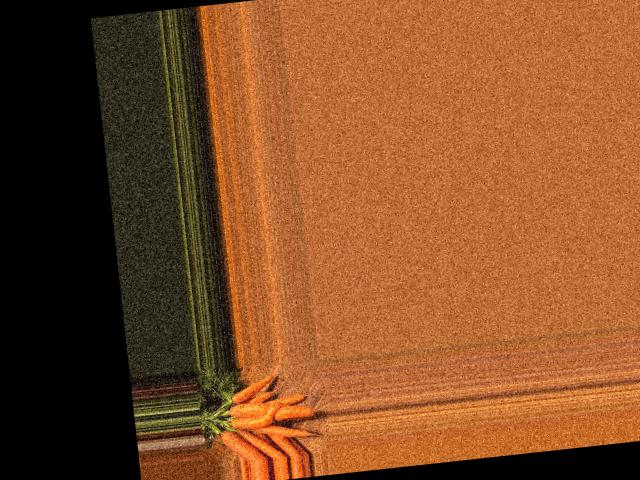carrot: (217, 426, 264, 463)
